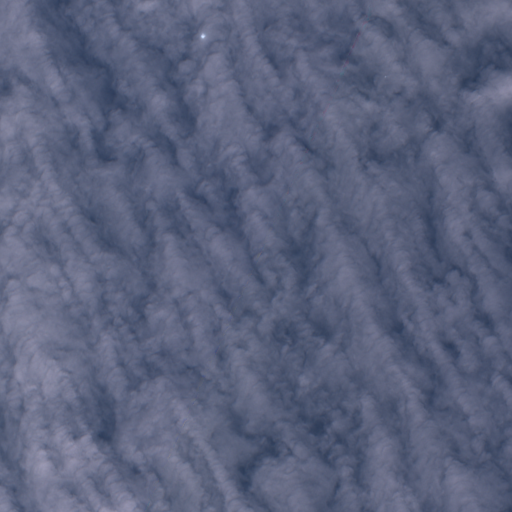Iceberg: (201, 33, 205, 38)
